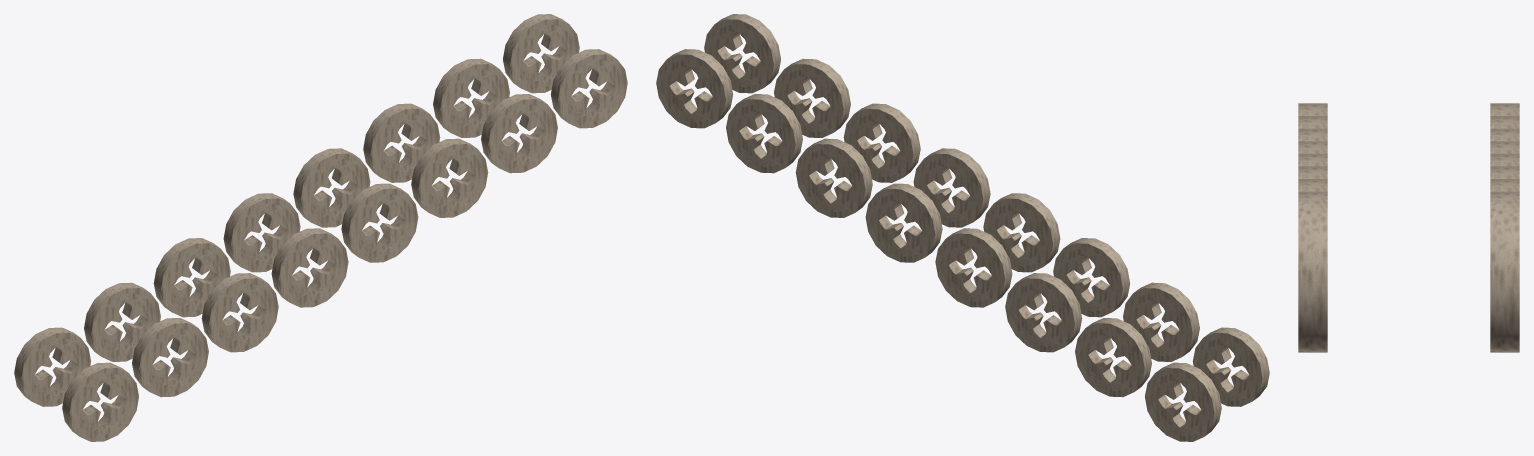
The model's file is cat_detail2-lod1.obj.
The picture shows the model from 3 angles, left to right: view 1: azimuth 30°, elevation 25°; view 2: azimuth 150°, elevation 25°; view 3: azimuth 270°, elevation 25°; orthographic projection. The views are drawn at different scales.
Visible parts, largest first — view 1: cat_detail1.000; view 2: cat_detail1.000; view 3: cat_detail1.000.
Boxes of the visible parts, x1,y1,x2,y2 form: cat_detail1.000: (14,14,627,441); cat_detail1.000: (656,14,1269,441); cat_detail1.000: (1298,103,1519,352).
Size of the model in its own units: 16.13 by 7.38 by 2.76.
